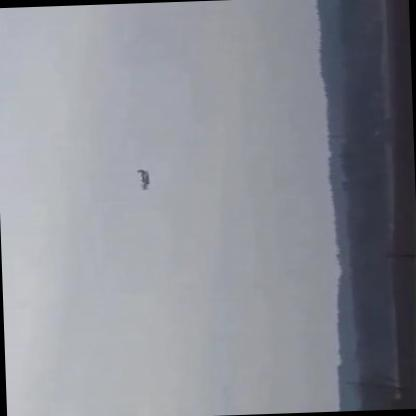plane: (137, 168, 154, 190)
